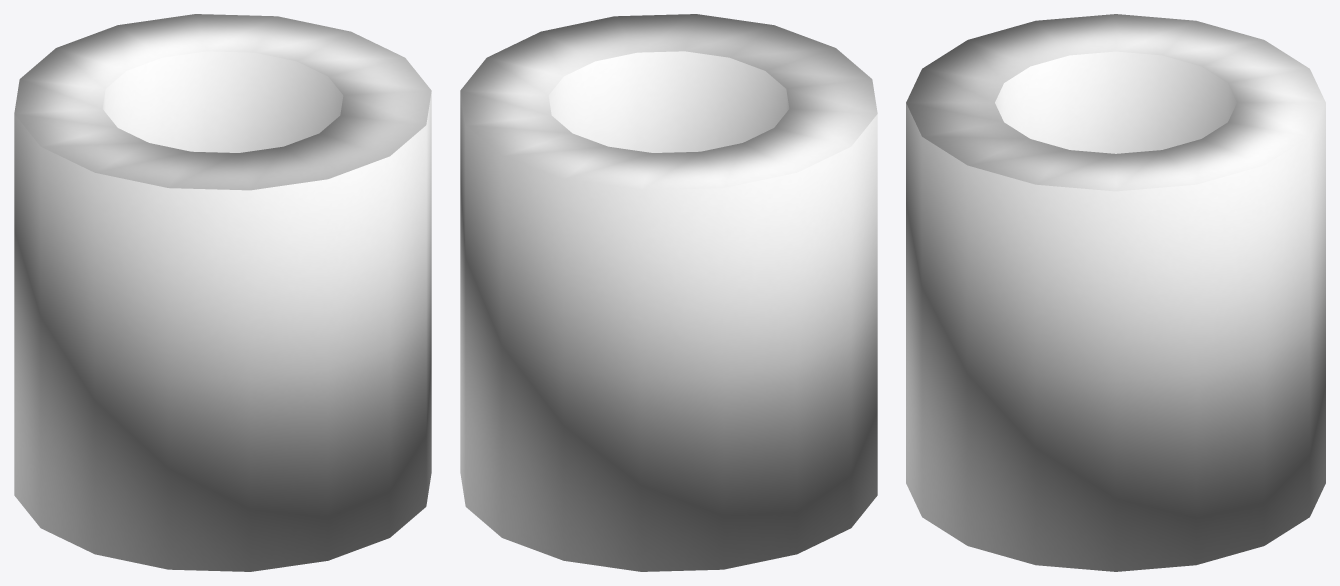
File: Props_TissueToilet.fbx
3 views of the same model, side by side, from view 1: azimuth 30°, elevation 25°; view 2: azimuth 150°, elevation 25°; view 3: azimuth 270°, elevation 25° (orthographic).
Parts seen in each view (by area): view 1: Props_TissueToilet; view 2: Props_TissueToilet; view 3: Props_TissueToilet.
Boxes of the visible parts, left/top/right/bottom form: Props_TissueToilet: left=14, top=14, right=431, bottom=571; Props_TissueToilet: left=460, top=14, right=877, bottom=571; Props_TissueToilet: left=906, top=14, right=1325, bottom=571.
Size of the model in its own units: 100 by 100 by 100.
